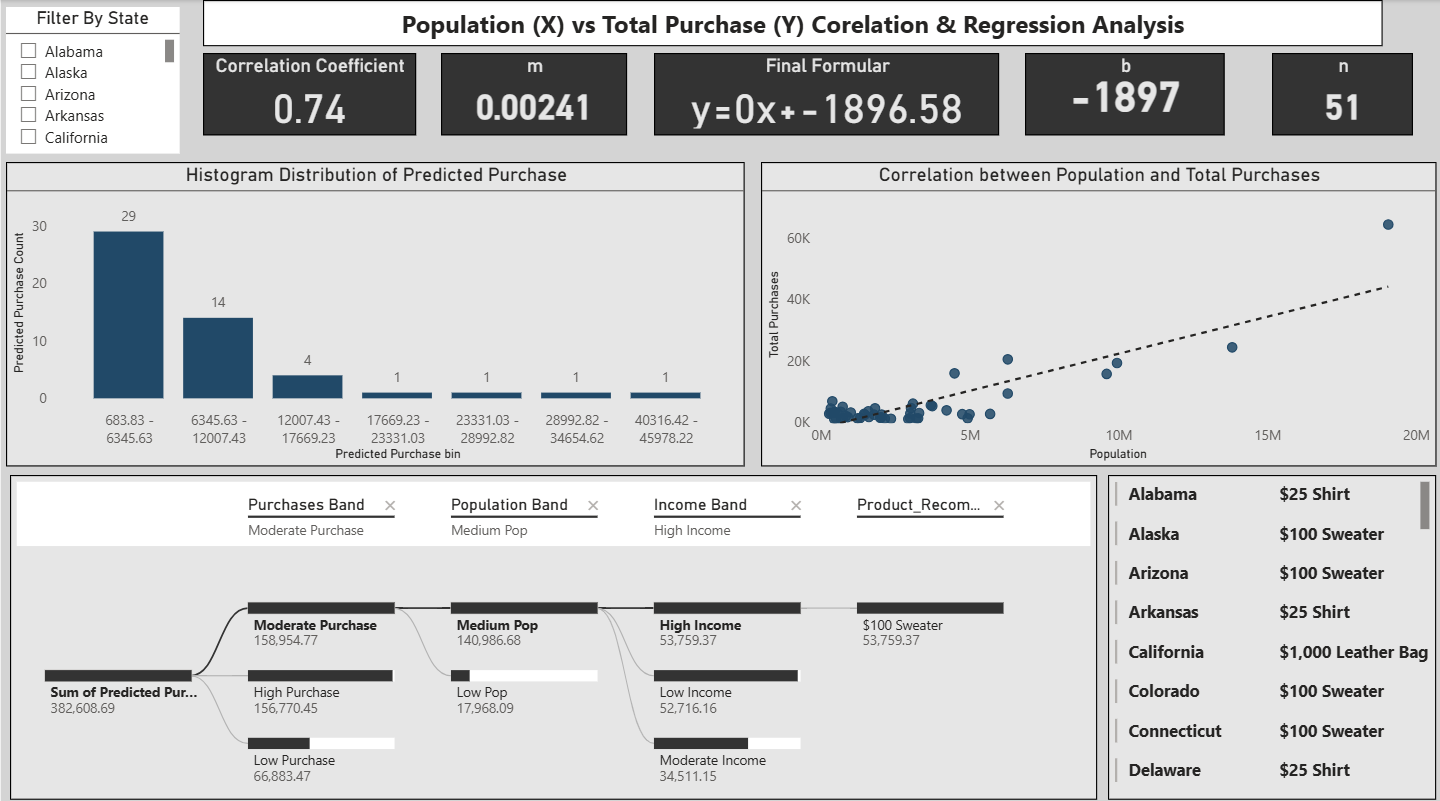

The page's visual inventory and layout, read from the dashboard file:
{"tool":"powerbi","page":{"name":"Population & Purchase","canvas":[1280,720],"ordinal":2},"visuals":[{"type":"textbox","box":[179.1,0,1046.2,40.5],"z":0},{"type":"scatterChart","title":"Correlation between Population and Total Purchases","fields":{"X":["Sum(Regression Population & Purchase.Population)"],"Y":["Sum(Regression Population & Purchase.Total Purchases)"]},"box":[673.9,143.3,598.5,269.6],"z":1000},{"type":"card","title":"Correlation Coefficient","fields":{"Values":["Regression Population & Purchase.Sum of Population and Sum of Total Purchases correlation for Total Purchases"]},"box":[179.1,47.1,188.5,72.6],"z":2000},{"type":"card","title":"n","fields":{"Values":["Regression Population & Purchase.n_"]},"box":[1127.3,47.1,125.4,72.6],"z":3000},{"type":"card","title":"b","fields":{"Values":["Regression Population & Purchase.b."]},"box":[907.7,47.1,177.2,72.6],"z":4000},{"type":"card","title":"m","fields":{"Values":["Regression Population & Purchase.m."]},"box":[390.2,47.1,164.9,72.6],"z":5000},{"type":"card","title":"Final Formular","fields":{"Values":["Regression Population & Purchase.Final Formula1"]},"box":[578.7,47.1,306.3,72.6],"z":6000},{"type":"columnChart","title":"Histogram Distribution of Predicted Purchase","fields":{"Category":["Regression_Tbl2.Bin8"],"Y":["CountNonNull(Regression_Tbl2.Predicted Purchase)"]},"box":[4.7,143.3,655.1,269.6],"z":7000},{"type":"decompositionTreeVisual","fields":{"ExplainBy":["Regression_Tbl2.Purchases Band","Regression_Tbl2.Population Band","Regression_Tbl1.Income Band","Regression_Tbl2.Product_Recommendation"],"Analyze":["Sum(Regression_Tbl2.Predicted Purchase)"]},"box":[7.5,421.3,964.2,288.4],"z":8000},{"type":"multiRowCard","fields":{"Values":["Regression_Tbl2.State","Regression_Tbl2.Product_Recommendation"]},"box":[981.2,421.3,291.3,288.4],"z":9000},{"type":"slicer","title":"Filter By State","fields":{"Values":["Regression_Tbl1.State"]},"box":[4.7,6.6,153.6,130.1],"z":9001}]}

Visuals, with their boxes in screenshot pixels (x1, y1, x2, y2), scaled from the page's 1280x720 canvas onto the 1440x801 screenshot:
textbox: (201, 0, 1378, 45)
"Correlation between Population and Total Purchases" scatterChart: (758, 159, 1431, 459)
"Correlation Coefficient" card: (201, 52, 414, 133)
"n" card: (1268, 52, 1409, 133)
"b" card: (1021, 52, 1221, 133)
"m" card: (439, 52, 624, 133)
"Final Formular" card: (651, 52, 996, 133)
"Histogram Distribution of Predicted Purchase" columnChart: (5, 159, 742, 459)
decompositionTreeVisual - Regression_Tbl2.Purchases Band x Regression_Tbl2.Population Band: (8, 469, 1093, 790)
multiRowCard - Regression_Tbl2.State x Regression_Tbl2.Product_Recommendation: (1104, 469, 1432, 790)
"Filter By State" slicer: (5, 7, 178, 152)
